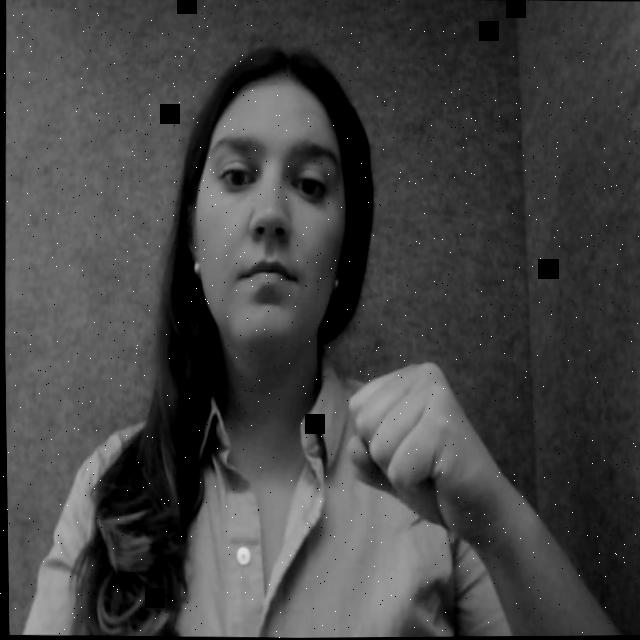Rock: (318, 349, 511, 552)
